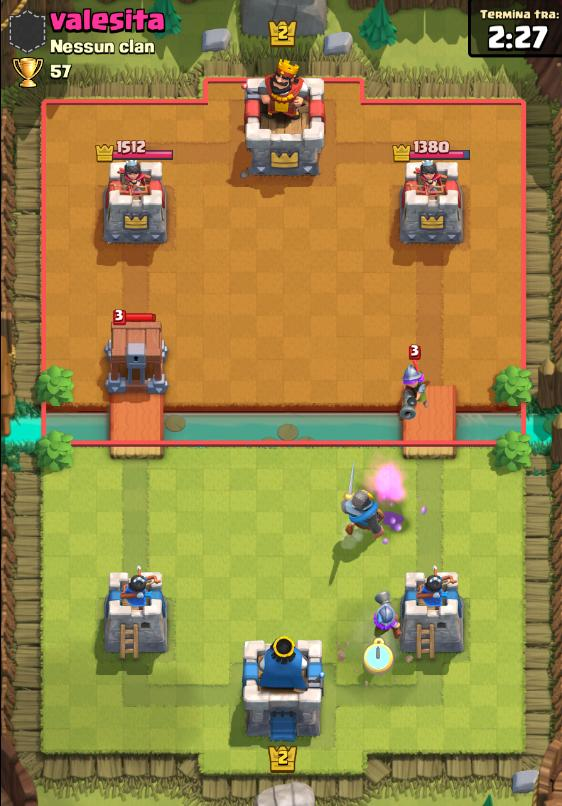ally_knight: (342, 454, 408, 544)
ally_musketeer: (398, 343, 442, 422), (367, 583, 404, 644)
enemy_goblin_cage: (104, 309, 165, 392)
